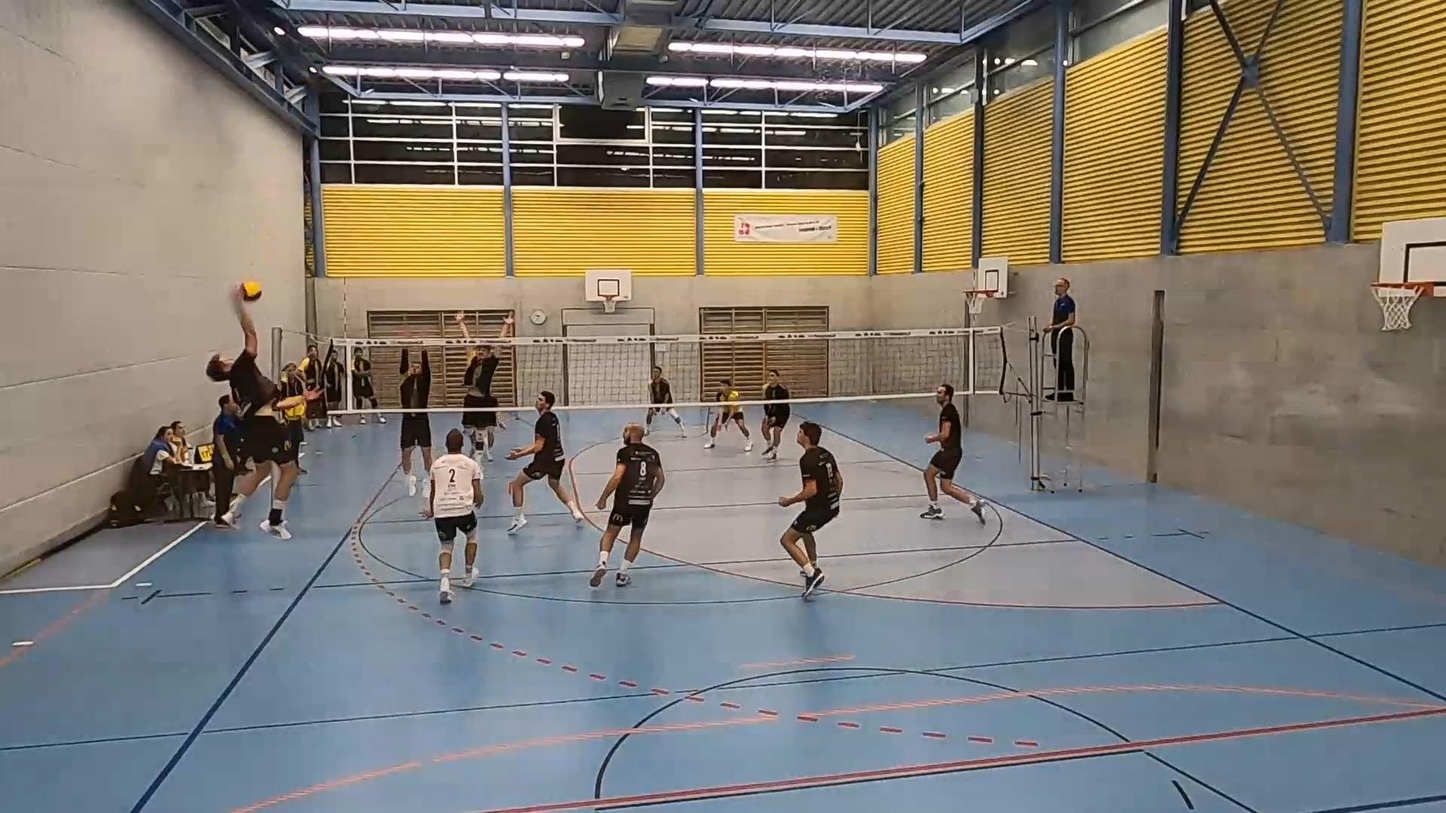attacco: (201, 303, 337, 547)
muro: (454, 306, 515, 462), (394, 332, 439, 504)
